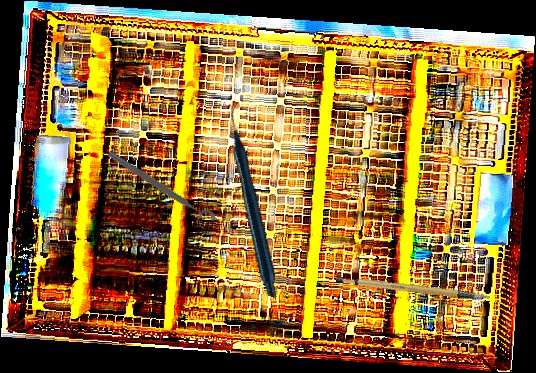Fixation Ring: (101, 147, 218, 233)
Handpiece: (167, 101, 344, 300)
Scalpel Handle: (334, 255, 491, 325)
